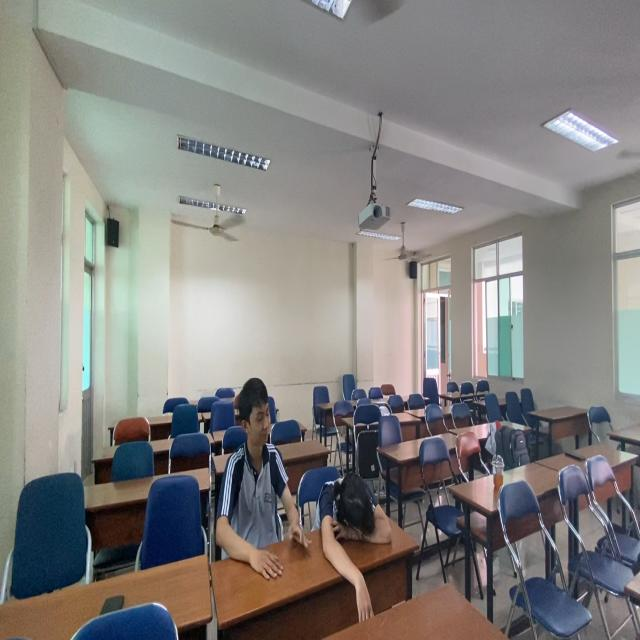sleep: (313, 467, 397, 561)
